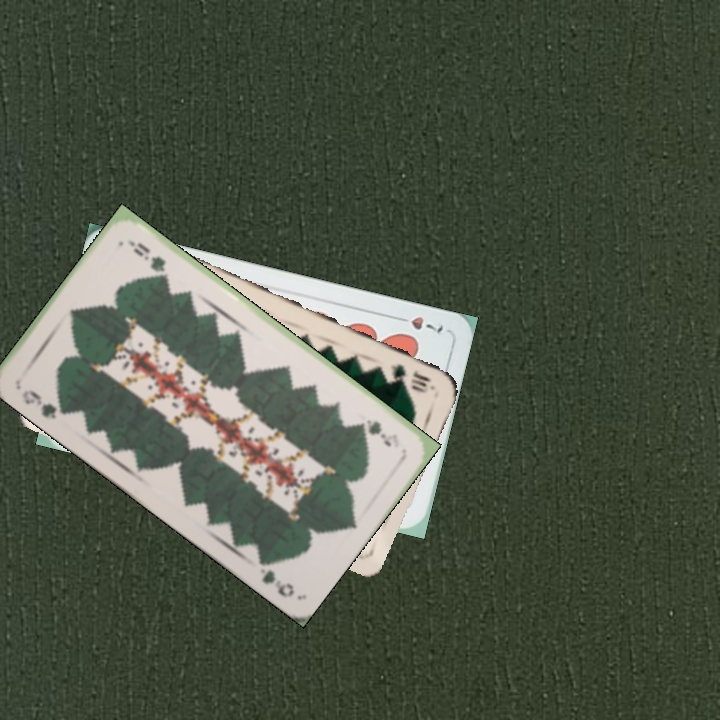G10: (386, 360, 435, 393)
G9: (17, 385, 69, 422), (357, 415, 394, 449)
H7: (390, 311, 446, 336)
